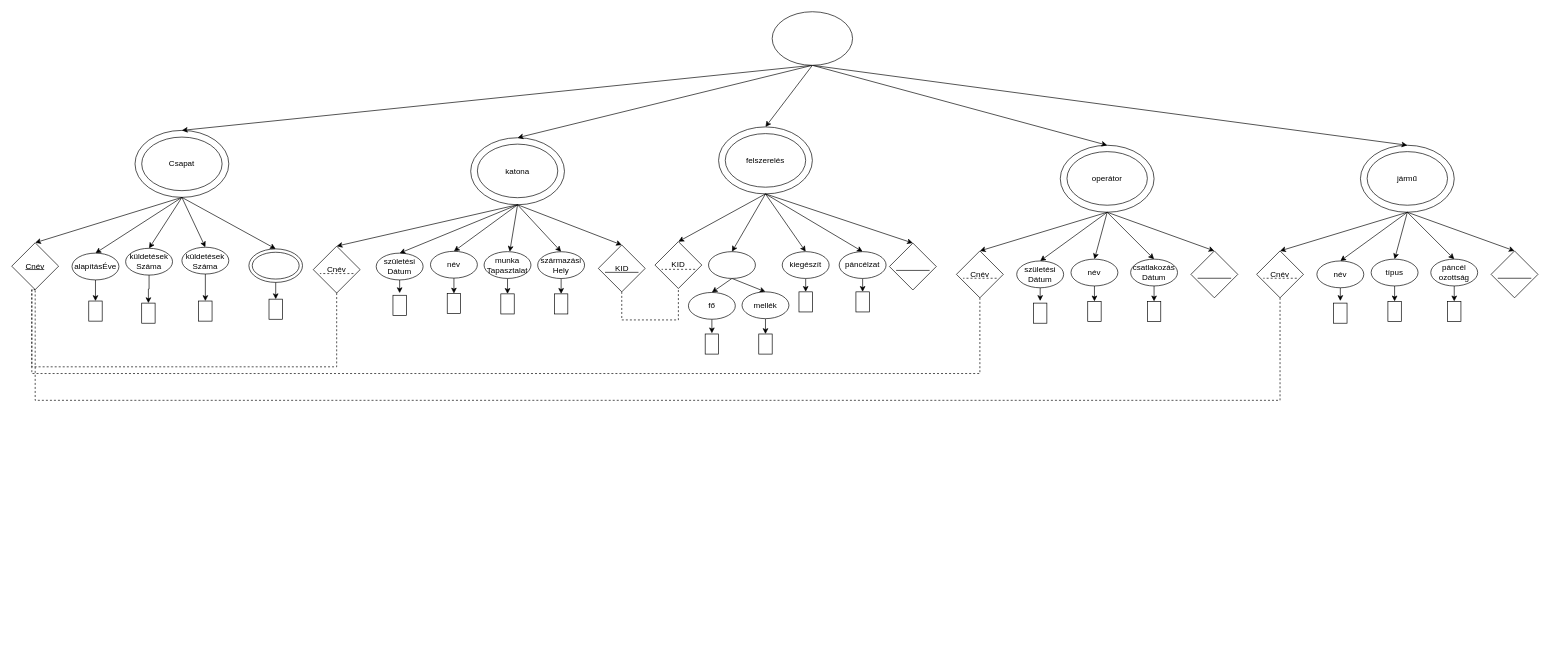
Image size: 1550x660. Some labels were removed from this diagram. The shapes that lost their labels are listed below. From the top down, each one's centre as x and y in pixels, then its label:
At (812,38): "SYQ7E2_PMC".
At (275,265): "Alapító tagok".
At (731,264): "fegyver".
At (912,266): "FID".
At (1214,274): "OID".
At (1514,274): "JID".
